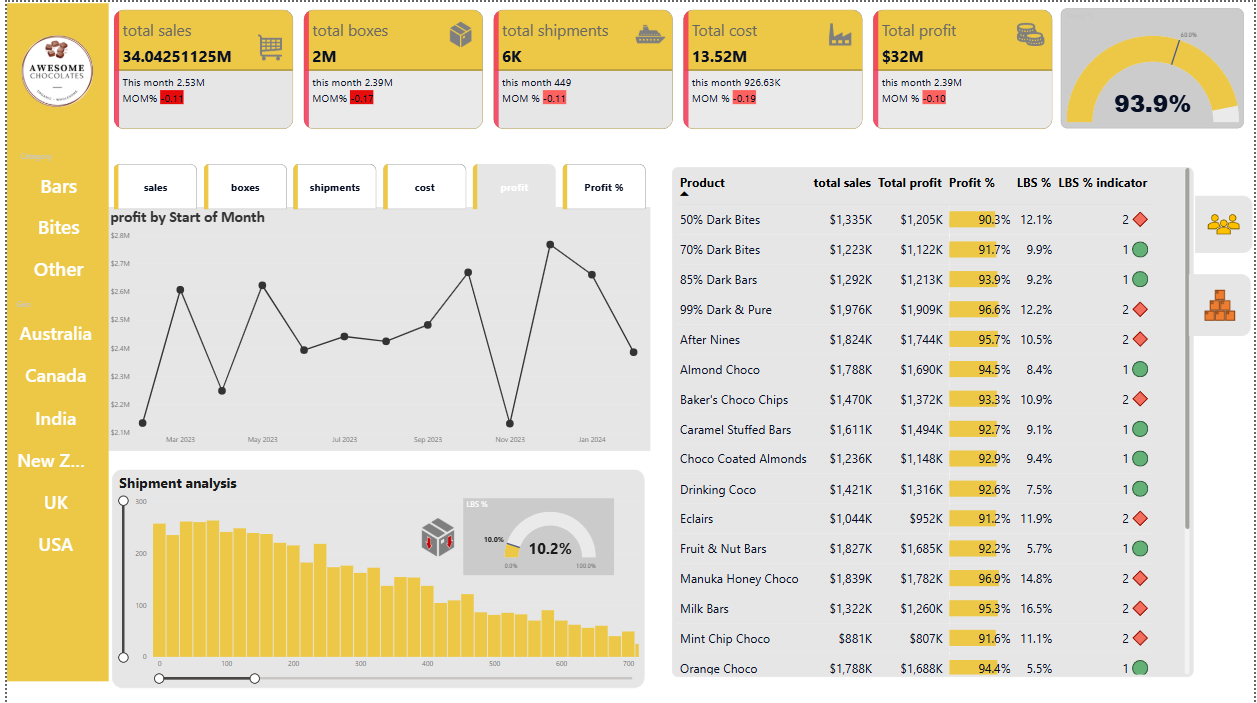

The dashboard page shown, as its layout file describes it:
{"tool":"powerbi","page":{"name":"sales report","canvas":[1920,1080],"ordinal":2},"visuals":[{"type":"cardVisual","fields":{"Data":["_measures.total sales","_measures.total boxes","_measures.total shipments","_measures.Total cost","_measures.Total profit"]},"box":[160,10.9,1457.4,189.1],"z":0},{"type":"gauge","fields":{"Y":["_measures.Profit %"]},"box":[1620.4,8.7,281.7,184.8],"z":1000},{"type":"lineChart","fields":{"Y":["_measures.total sales"],"Category":["calendar.Start of Month"]},"box":[154.5,315.9,836.4,375.5],"z":2000},{"type":"advancedSlicerVisual","fields":{"Values":["Measure Selector.Measure Selector"]},"box":[158.7,243.5,830.4,80.9],"z":3000},{"type":"columnChart","title":"Shipment analysis","fields":{"Category":["shipments.Boxes (bins)"],"Y":["_measures.total shipments"]},"box":[160.9,719.6,819.6,336.1],"z":4000},{"type":"gauge","fields":{"Y":["_measures.LBS %"]},"box":[702.3,763.6,231.8,118.2],"z":5000},{"type":"image","box":[604.1,781.8,118.2,81.8],"z":6000},{"type":"tableEx","title":"product table","fields":{"Values":["products.Product","_measures.total sales","_measures.Total profit","_measures.Profit %","_measures.LBS %","_measures.LBS % indicator"]},"box":[1023.9,254.3,802.2,784.8],"z":8000},{"type":"shape","box":[0,2.1,156.4,1043.6],"z":9000},{"type":"image","box":[16.9,28.4,120,155.6],"z":10000},{"type":"listSlicer","fields":{"Values":["products.Category"]},"box":[15.4,228.2,128.2,219],"z":11000},{"type":"listSlicer","fields":{"Values":["locations.Geo"]},"box":[10.3,454.9,131,417.9],"z":12000},{"type":"image","title":"people icon","box":[1822.4,288.8,97.6,107.3],"z":13000},{"type":"image","title":"product icon","box":[1813.7,402,104.9,129.3],"z":14000}]}

Visuals, with their boxes in screenshot pixels (x1, y1, x2, y2), scaled from the page's 1920x1080 canvas onto the 1257x703 screenshot:
cardVisual - _measures.total sales x _measures.total boxes: 105, 7, 1059, 130
gauge - _measures.Profit %: 1061, 6, 1245, 126
lineChart - _measures.total sales x calendar.Start of Month: 101, 206, 649, 450
advancedSlicerVisual - Measure Selector.Measure Selector: 104, 159, 648, 211
"Shipment analysis" columnChart: 105, 468, 642, 687
gauge - _measures.LBS %: 460, 497, 612, 574
image: 395, 509, 473, 562
"product table" tableEx: 670, 166, 1196, 676
shape: 0, 1, 102, 681
image: 11, 18, 90, 120
listSlicer - products.Category: 10, 149, 94, 291
listSlicer - locations.Geo: 7, 296, 93, 568
"people icon" image: 1193, 188, 1256, 258
"product icon" image: 1187, 262, 1256, 346
